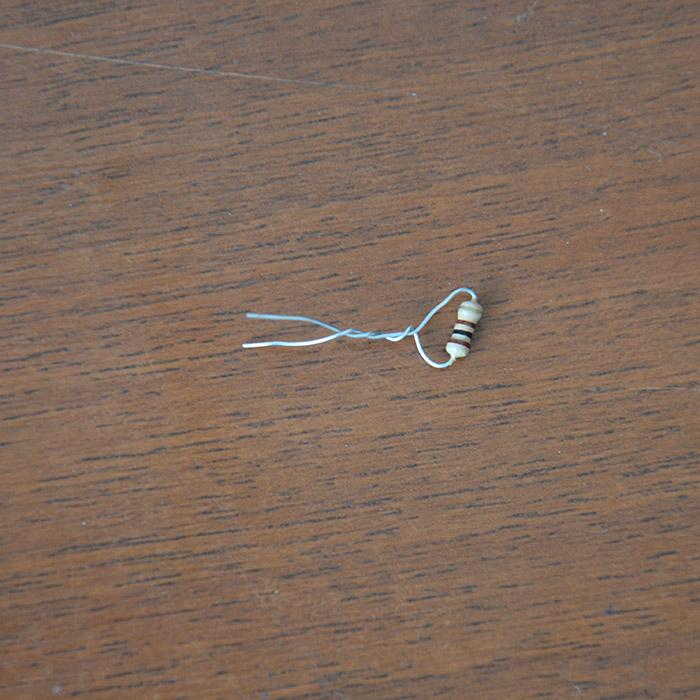resistor: (447, 298, 484, 359)
